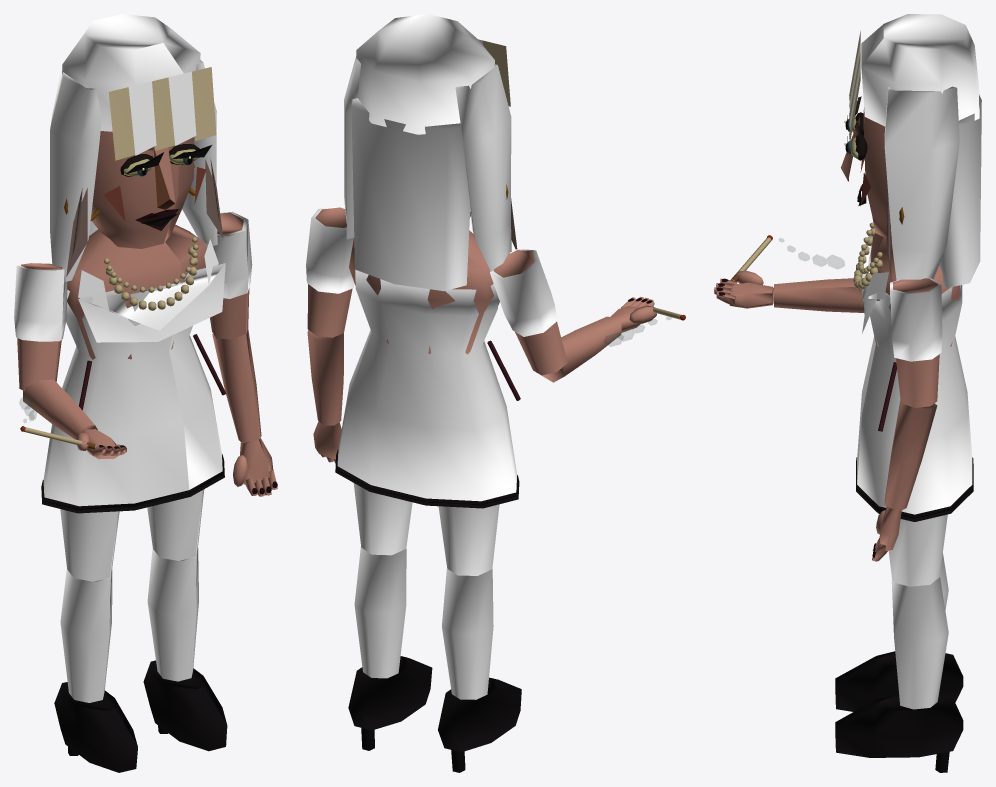
File: character_operator_vivian.obj
The picture shows the model from 3 angles, left to right: view 1: azimuth 30°, elevation 25°; view 2: azimuth 150°, elevation 25°; view 3: azimuth 270°, elevation 25°; orthographic projection.
Visible parts, largest first — view 1: character_operator_vivian_DA_0073, character_operator_vivian_DA_0058, character_operator_vivian_DA_0064, character_operator_vivian_DA_0034, character_operator_vivian_DA_0074, character_operator_vivian_DA_0072, character_operator_vivian_DA_0113, character_operator_vivian_DA_0118, character_operator_vivian_DA_0114, character_operator_vivian_DA_0119, character_operator_vivian_DA_0001, character_operator_vivian_DA_0112 (+19 smaller); view 2: character_operator_vivian_DA_0073, character_operator_vivian_DA_0070, character_operator_vivian_DA_0058, character_operator_vivian_DA_0064, character_operator_vivian_DA_0113, character_operator_vivian_DA_0118, character_operator_vivian_DA_0114, character_operator_vivian_DA_0119, character_operator_vivian_DA_0112, character_operator_vivian_DA_0001, character_operator_vivian_DA_0117, character_operator_vivian_DA_0022 (+9 smaller); view 3: character_operator_vivian_DA_0073, character_operator_vivian_DA_0067, character_operator_vivian_DA_0058, character_operator_vivian_DA_0119, character_operator_vivian_DA_0118, character_operator_vivian_DA_0070, character_operator_vivian_DA_0022, character_operator_vivian_DA_0114, character_operator_vivian_DA_0023, character_operator_vivian_DA_0117, character_operator_vivian_DA_0002, character_operator_vivian_DA_0021 (+6 smaller).
Part boxes in pixels (x1,y1,x2,y2): character_operator_vivian_DA_0073: (43, 266, 222, 506); character_operator_vivian_DA_0058: (62, 14, 200, 131); character_operator_vivian_DA_0064: (50, 66, 101, 281); character_operator_vivian_DA_0034: (91, 131, 193, 248); character_operator_vivian_DA_0074: (78, 263, 225, 342); character_operator_vivian_DA_0072: (67, 225, 206, 359); character_operator_vivian_DA_0113: (60, 569, 112, 702); character_operator_vivian_DA_0118: (147, 548, 198, 681); character_operator_vivian_DA_0114: (54, 682, 137, 772); character_operator_vivian_DA_0119: (143, 660, 227, 751); character_operator_vivian_DA_0001: (14, 265, 67, 341); character_operator_vivian_DA_0112: (60, 509, 119, 581); character_operator_vivian_DA_0073: (337, 269, 517, 501); character_operator_vivian_DA_0070: (351, 98, 470, 291); character_operator_vivian_DA_0058: (356, 14, 494, 134); character_operator_vivian_DA_0064: (455, 64, 511, 271); character_operator_vivian_DA_0113: (442, 569, 493, 699); character_operator_vivian_DA_0118: (354, 547, 406, 678); character_operator_vivian_DA_0114: (438, 677, 521, 752); character_operator_vivian_DA_0119: (348, 656, 432, 730); character_operator_vivian_DA_0112: (438, 504, 499, 575); character_operator_vivian_DA_0001: (490, 249, 557, 336); character_operator_vivian_DA_0117: (353, 483, 412, 555); character_operator_vivian_DA_0022: (306, 207, 354, 293); character_operator_vivian_DA_0073: (857, 256, 972, 514); character_operator_vivian_DA_0067: (884, 86, 959, 280); character_operator_vivian_DA_0058: (861, 14, 979, 126); character_operator_vivian_DA_0119: (835, 694, 963, 757); character_operator_vivian_DA_0118: (891, 577, 948, 709); character_operator_vivian_DA_0070: (939, 95, 981, 287); character_operator_vivian_DA_0022: (890, 278, 942, 361); character_operator_vivian_DA_0114: (835, 651, 963, 711); character_operator_vivian_DA_0023: (884, 399, 937, 509); character_operator_vivian_DA_0117: (888, 514, 947, 586); character_operator_vivian_DA_0002: (773, 278, 864, 312); character_operator_vivian_DA_0021: (893, 278, 939, 407).
Bounding box in the file's own units: 0.9066 × 2 × 0.6756.
